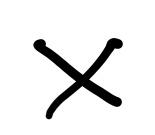mult: (33, 37, 122, 117)
